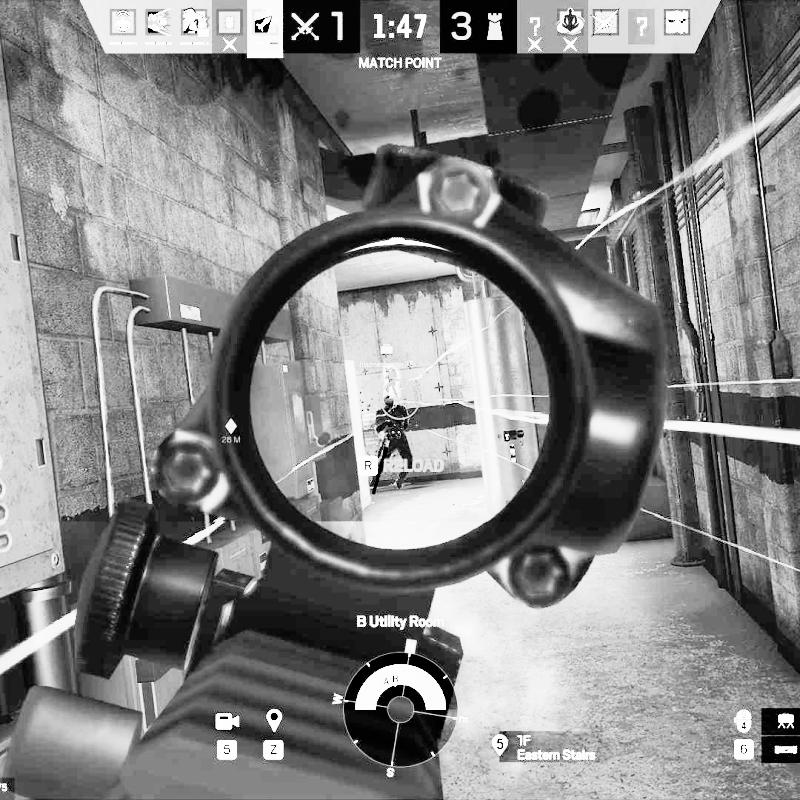Character: (368, 393, 418, 496)
Friend_label: (359, 342, 415, 368)
Head: (383, 394, 395, 409)
